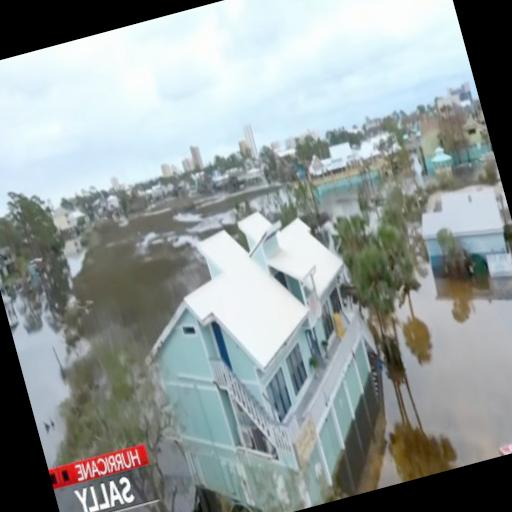flood: (357, 271, 512, 494), (9, 296, 91, 469), (317, 169, 382, 228), (251, 187, 295, 221), (181, 209, 237, 231), (66, 250, 87, 276)
house: (125, 206, 398, 512), (410, 181, 512, 280)
